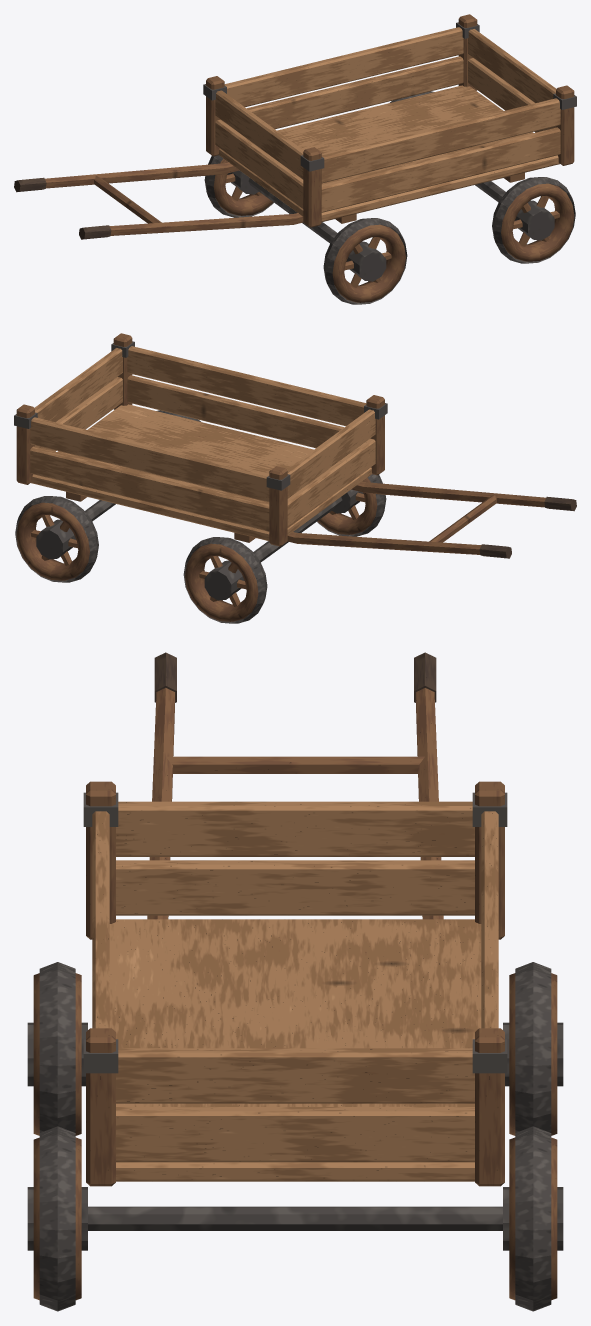
File: market_handcart.glb
The picture shows the model from 3 angles, top to bottom: view 1: azimuth 30°, elevation 25°; view 2: azimuth 150°, elevation 25°; view 3: azimuth 270°, elevation 25°; orthographic projection. The views are drawn at different scales.
Parts seen in each view (by area): view 1: market_handcart_cargo_tray, market_handcart_pulling_shafts, market_handcart_wheel_front_R, market_handcart_wheel_rear_R, market_handcart_wheel_front_L, market_handcart_axles; view 2: market_handcart_cargo_tray, market_handcart_pulling_shafts, market_handcart_wheel_front_L, market_handcart_wheel_rear_L, market_handcart_wheel_front_R, market_handcart_axles; view 3: market_handcart_cargo_tray, market_handcart_pulling_shafts, market_handcart_axles, market_handcart_wheel_rear_L, market_handcart_wheel_rear_R, market_handcart_wheel_front_L, market_handcart_wheel_front_R.
Part boxes in pixels (box(x1,y1,x2,y2)): market_handcart_cargo_tray: box(203, 14, 576, 227); market_handcart_pulling_shafts: box(14, 162, 303, 239); market_handcart_wheel_front_R: box(323, 218, 407, 304); market_handcart_wheel_rear_R: box(492, 177, 575, 263); market_handcart_wheel_front_L: box(204, 155, 273, 217); market_handcart_axles: box(248, 172, 524, 243); market_handcart_cargo_tray: box(14, 333, 387, 546); market_handcart_pulling_shafts: box(287, 481, 576, 558); market_handcart_wheel_front_L: box(183, 537, 267, 623); market_handcart_wheel_rear_L: box(15, 496, 98, 582); market_handcart_wheel_front_R: box(317, 474, 386, 536); market_handcart_axles: box(66, 491, 342, 562); market_handcart_cargo_tray: box(83, 781, 507, 1186); market_handcart_pulling_shafts: box(147, 652, 443, 919); market_handcart_axles: box(88, 1206, 502, 1230); market_handcart_wheel_rear_L: box(503, 1126, 563, 1311); market_handcart_wheel_rear_R: box(27, 1126, 87, 1311); market_handcart_wheel_front_L: box(503, 962, 563, 1135); market_handcart_wheel_front_R: box(27, 962, 87, 1135).
Size of what is drawn, in the model's own units: 2.54 by 0.796 by 1.24.
4 materials, 4 textured.
